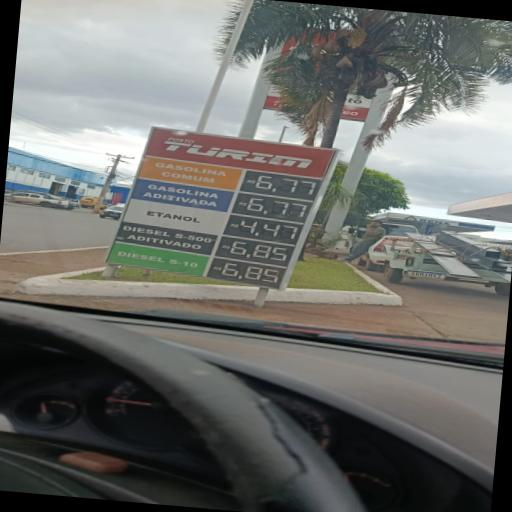ETANOL: (134, 201, 212, 230)
GASOLINA AD: (140, 180, 226, 209)
GASOLINA C: (144, 158, 240, 189)
S10: (112, 243, 206, 274)
S500: (118, 223, 215, 254)
placa: (107, 156, 327, 292)
preco: (219, 259, 284, 288), (244, 195, 311, 222), (253, 173, 322, 199), (237, 217, 303, 242), (229, 238, 290, 264)
